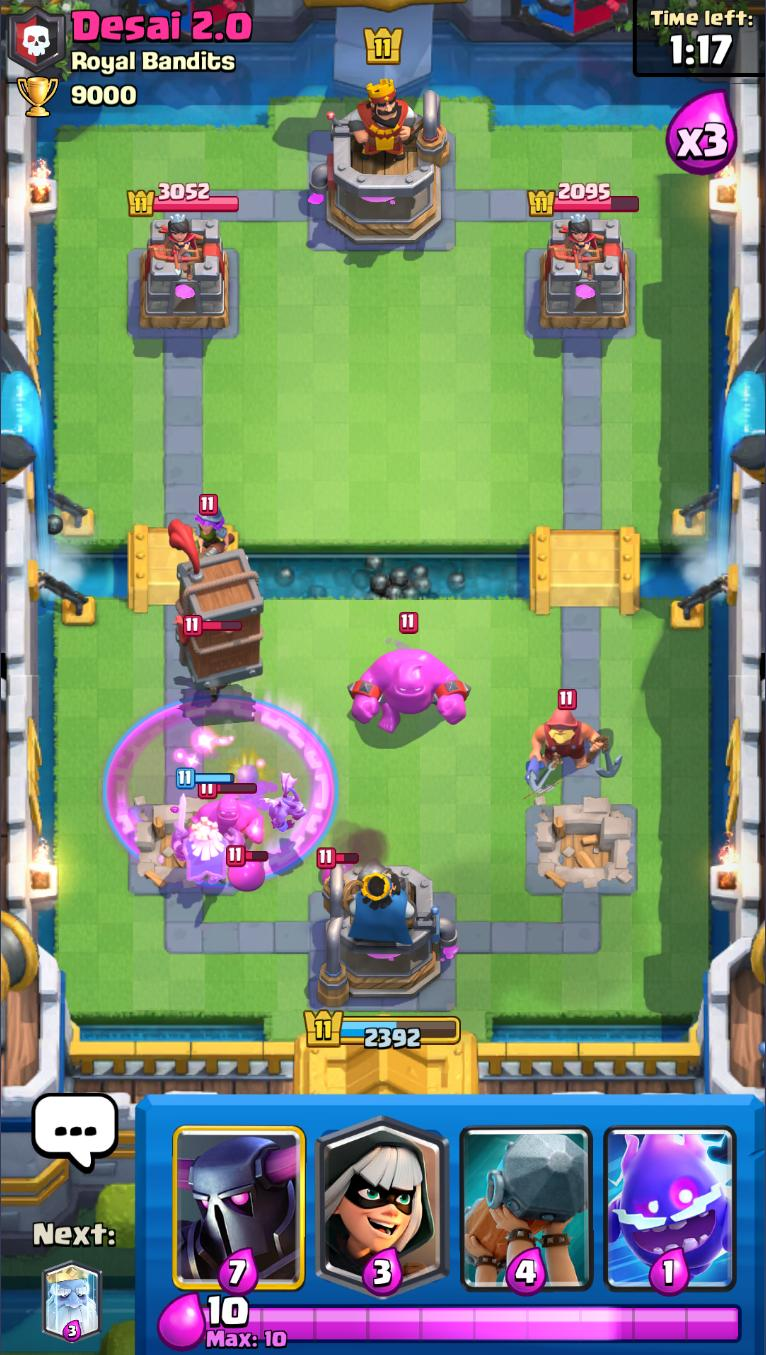BanditDeck: (312, 1096, 456, 1297)
BattleRamDeck: (455, 1096, 598, 1299)
Delivery: (167, 519, 263, 683)
ElectroSpiritDeck: (598, 1094, 743, 1296)
Elixir: (202, 1295, 743, 1351)
ElixirGolem: (347, 613, 472, 734)
ElixirGolemMicro: (224, 845, 270, 891), (313, 846, 358, 886)
ElixirGolemMini: (189, 781, 266, 844)
EnemyTower: (536, 215, 633, 333), (136, 215, 231, 333)
FisherMan: (525, 688, 623, 797)
KingTower: (310, 77, 453, 248)
Musketeer: (191, 492, 234, 562)
MyKingHP: (302, 1006, 462, 1050)
MyKingTower: (316, 858, 459, 1009)
MyMinion: (260, 773, 307, 830)
MyPrincessTowerBrocken: (524, 801, 639, 900), (127, 801, 241, 896)
MyRoyaleGhost: (168, 766, 228, 887)
PekkaDeck: (167, 1095, 312, 1295)
PrincessTower: (550, 214, 605, 276), (151, 215, 206, 275)
Rage: (102, 693, 336, 882)
RoyaleGhostNext: (42, 1264, 104, 1342)
TowerPrincessHP: (527, 180, 641, 217), (126, 182, 240, 219)
